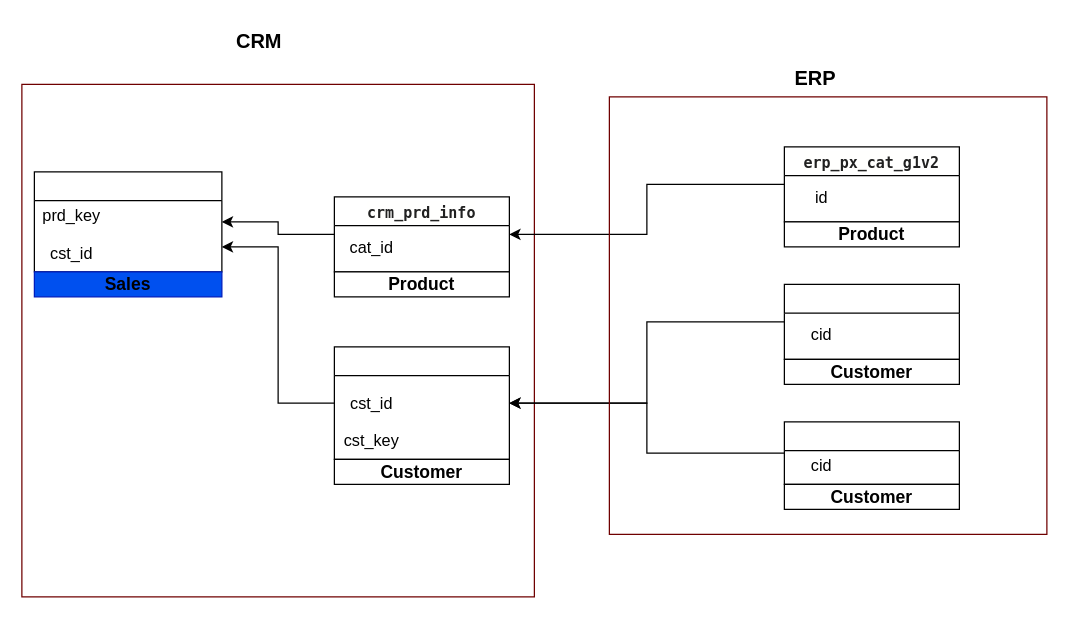
Some shapes in this 1069 by 619 pixel diagram are drawn without their labels. The shapes that lost their labels are listed below. From the top down, each one's box as (x1, y1, x2, y2) in pixels, then its label:
(33, 171, 222, 272): crm_sales_details
(783, 283, 959, 359): erp_loc_a101
(333, 346, 509, 459): crm_cust_info
(783, 421, 959, 484): erp_cust_az12
